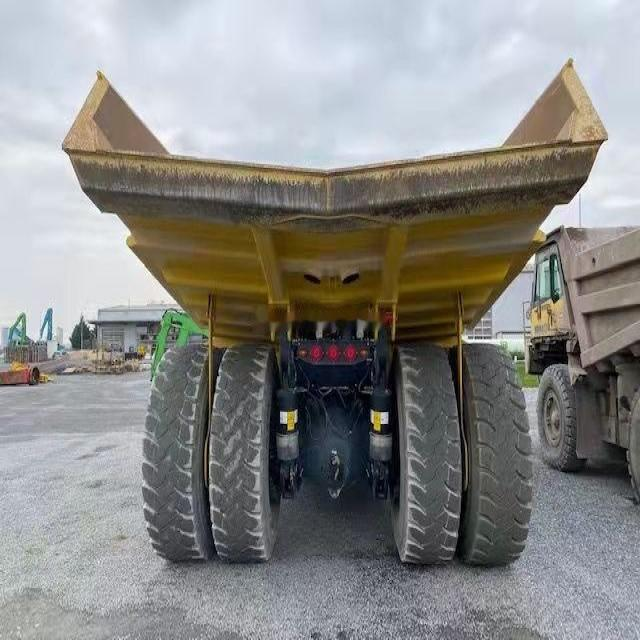dump_truck: (60, 59, 602, 563), (524, 238, 640, 504)
